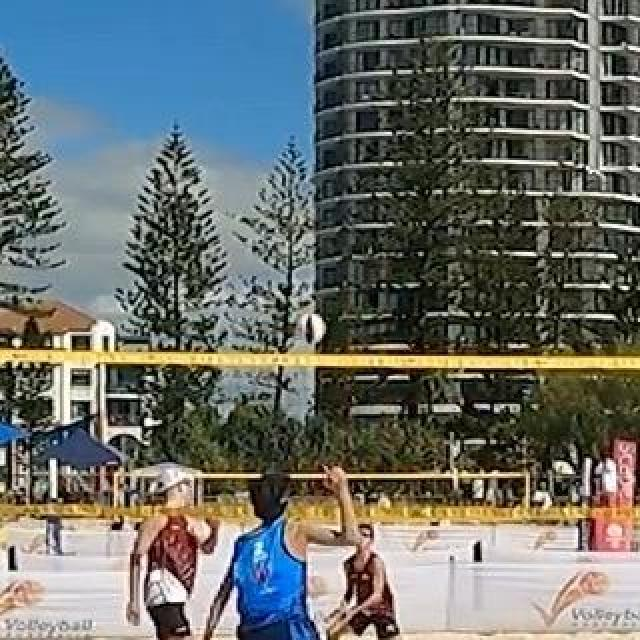volleyball: (297, 313, 327, 343)
